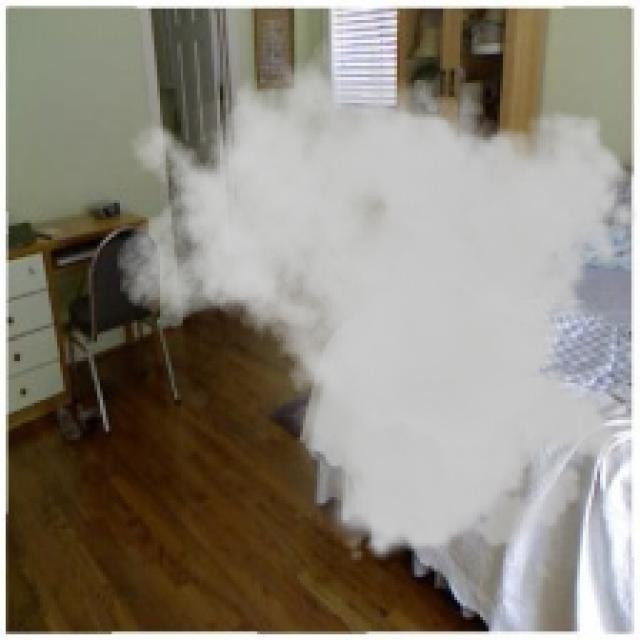Smoke: (114, 17, 637, 566)
